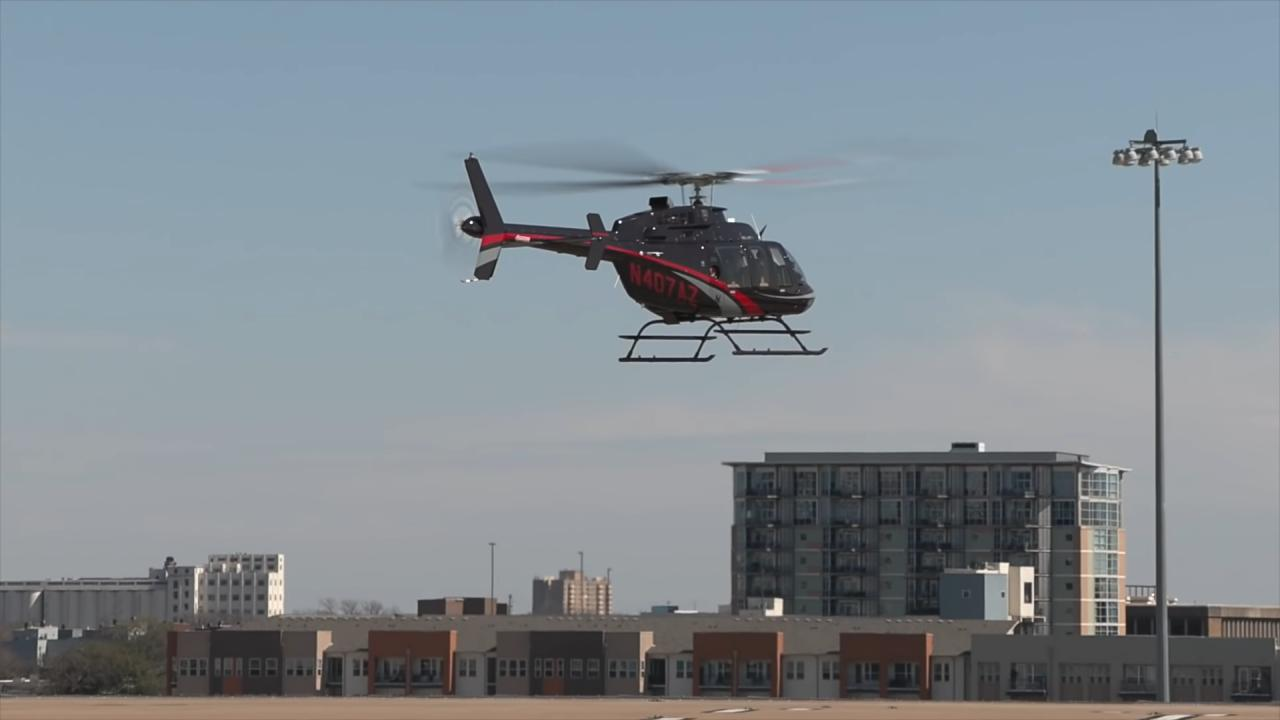Helicopter: (388, 91, 1002, 393)
